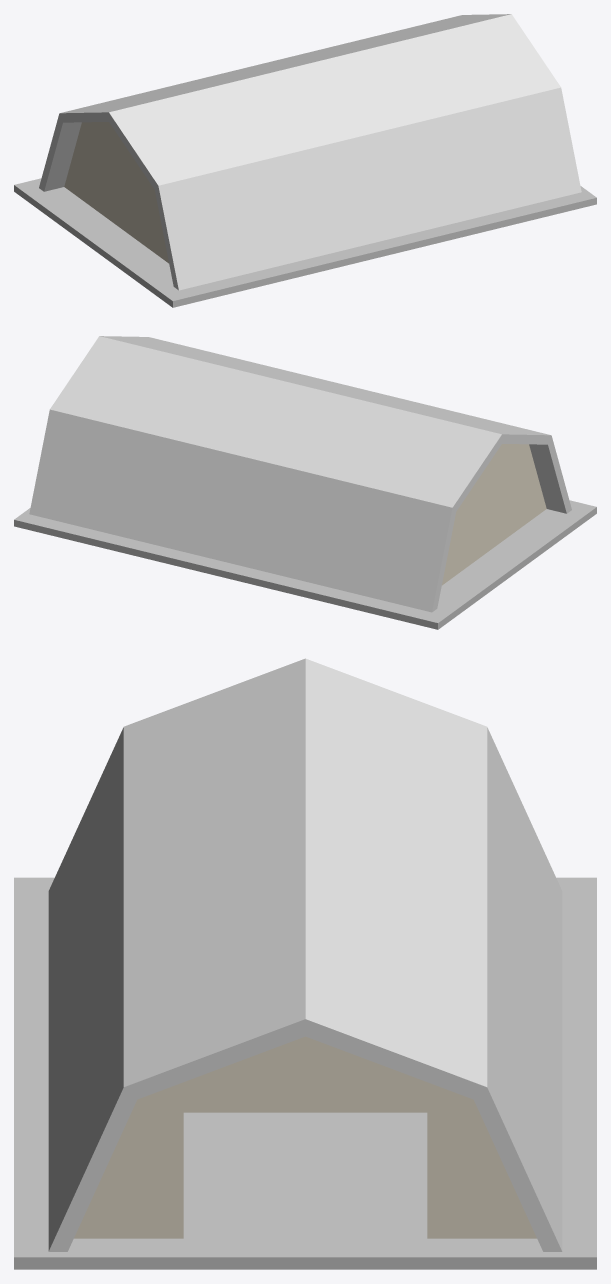
Rendered from Hangar.fbx.
The picture shows the model from 3 angles, top to bottom: view 1: azimuth 30°, elevation 25°; view 2: azimuth 150°, elevation 25°; view 3: azimuth 270°, elevation 25°; orthographic projection. The views are drawn at different scales.
Visible parts, largest first — view 1: Hangar; view 2: Hangar; view 3: Hangar.
Boxes of the visible parts, x1=… form: Hangar: x1=14, y1=14, x2=596, y2=307; Hangar: x1=14, y1=336, x2=596, y2=629; Hangar: x1=14, y1=658, x2=596, y2=1269.
Bounding box in the file's own units: 39.79 × 11.98 × 25.82.
